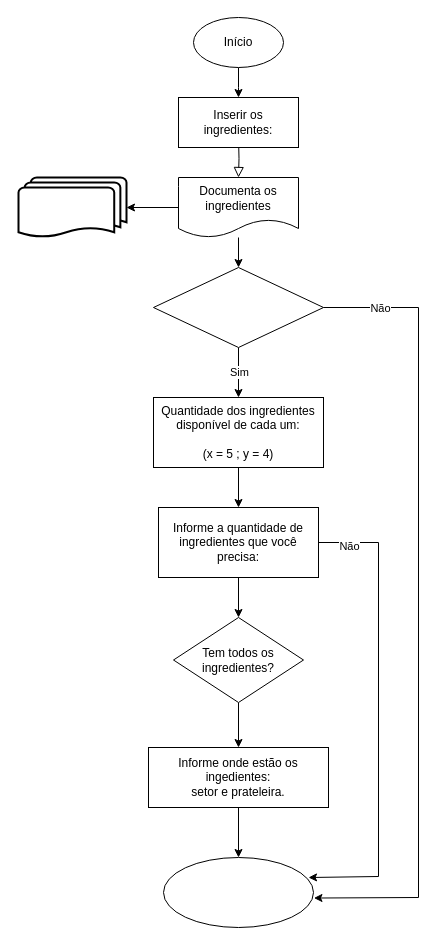
Image size: 444x945. Some labels were removed from this diagram. The shapes that lost their labels are listed below. From the top down, each one's centre as x and y in pixels, then its label:
At point (72, 207): "Ingredientes".
At point (238, 307): "Tem os ingredientes?".
At point (238, 892): "Fim".
